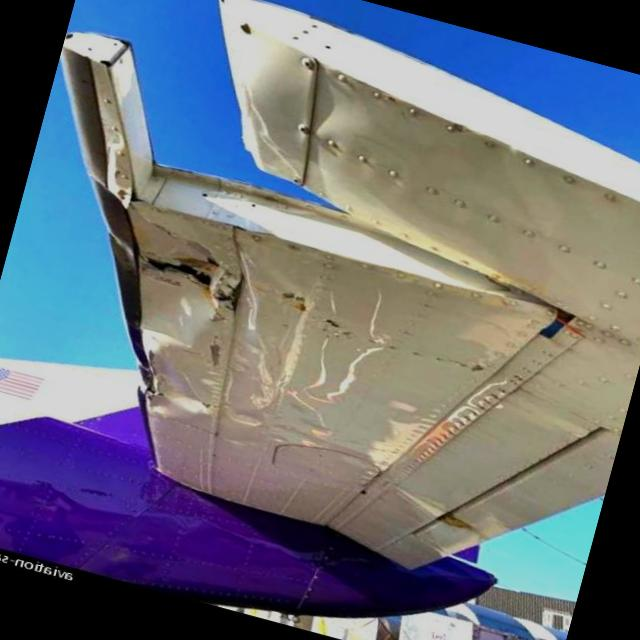dent: (142, 374, 204, 428)
